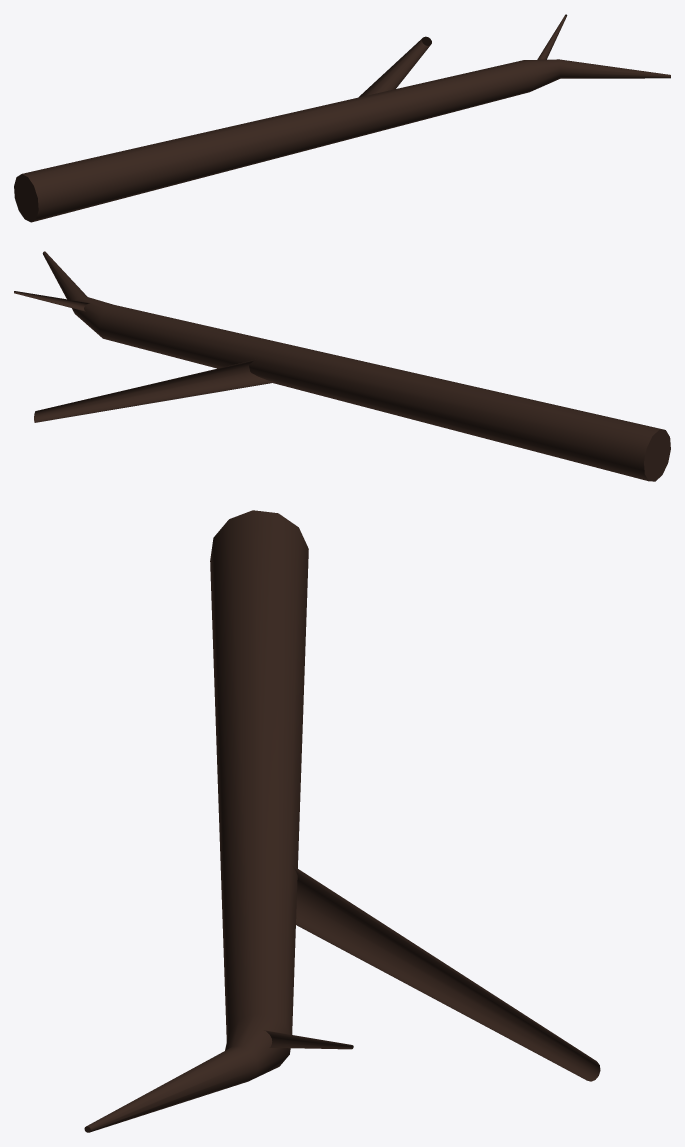
The model's file is branch.fbx.
3 renders of one model, top to bottom at view 1: azimuth 30°, elevation 25°; view 2: azimuth 150°, elevation 25°; view 3: azimuth 270°, elevation 25°, orthographic. The views are drawn at different scales.
Visible parts, largest first — view 1: Cylinder.001; view 2: Cylinder.001; view 3: Cylinder.001.
Part boxes in pixels (x1,y1,x2,y2): Cylinder.001: (14,14,670,222); Cylinder.001: (14,251,670,481); Cylinder.001: (84,510,600,1132).
Bounding box in the file's own units: 122 × 10.93 × 45.34.
